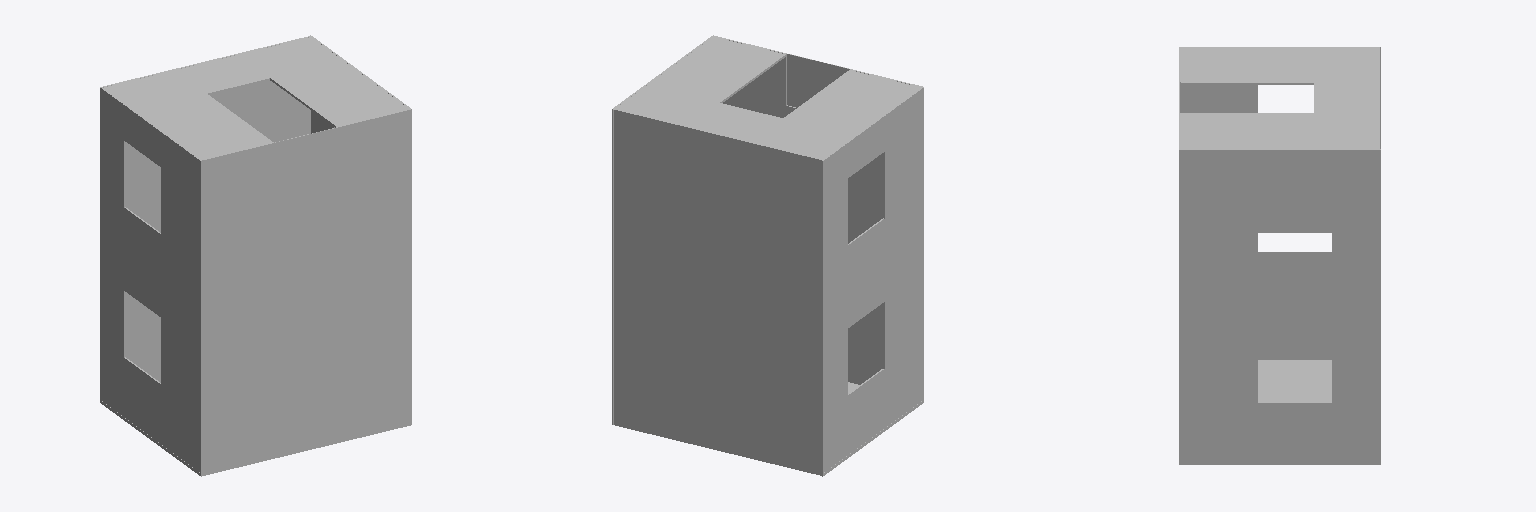
Rendered from celeironovo.obj.
The picture shows the model from 3 angles: view 1: azimuth 30°, elevation 25°; view 2: azimuth 150°, elevation 25°; view 3: azimuth 270°, elevation 25°; orthographic projection.
Visible parts, largest first — view 1: Cube.005; view 2: Cube.005; view 3: Cube.005.
Part boxes in pixels (left/top/right/bottom): Cube.005: left=100, top=35, right=411, bottom=476; Cube.005: left=612, top=35, right=923, bottom=476; Cube.005: left=1179, top=47, right=1380, bottom=464.
Size of the model in its own units: 5.51 by 7.85 by 4.55.